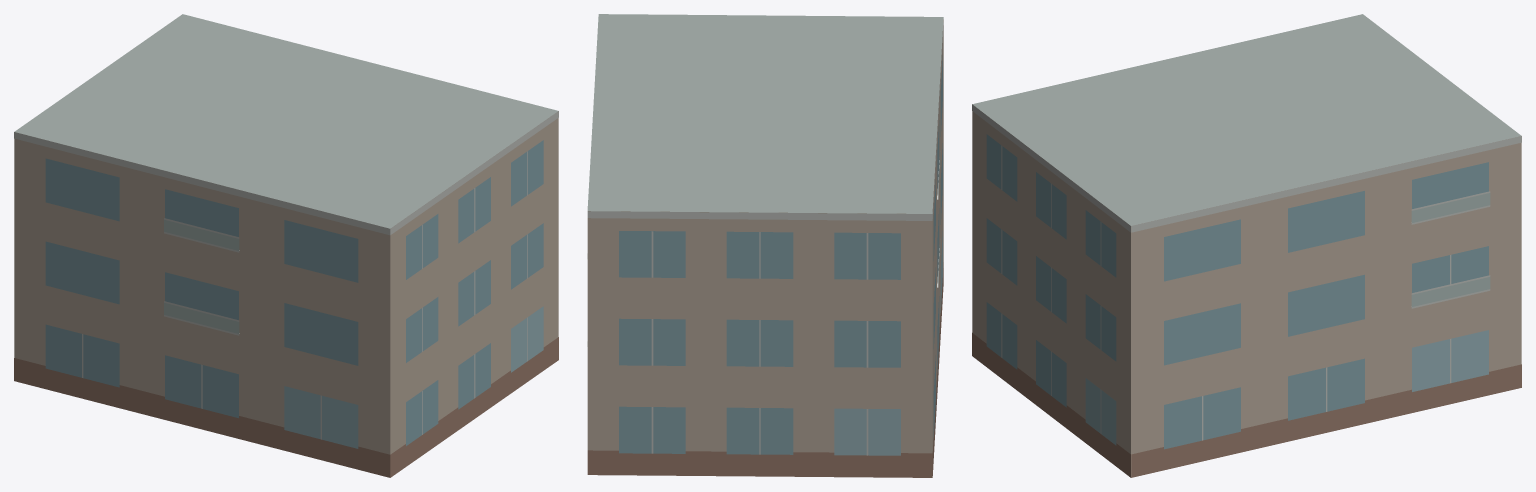
The model's file is survey-upis-32703561.glb.
The picture shows the model from 3 angles, left to right: view 1: azimuth 30°, elevation 25°; view 2: azimuth 150°, elevation 25°; view 3: azimuth 270°, elevation 25°; orthographic projection. The views are drawn at different scales.
Visible parts, largest first — view 1: survey-upis-32703561.tmp; view 2: survey-upis-32703561.tmp; view 3: survey-upis-32703561.tmp.
Boxes of the visible parts, bbox=[...] form: survey-upis-32703561.tmp: bbox=[14, 14, 558, 477]; survey-upis-32703561.tmp: bbox=[587, 14, 943, 477]; survey-upis-32703561.tmp: bbox=[972, 14, 1521, 477].
Bounding box in the file's own units: 16.53 × 9.15 × 18.11.
